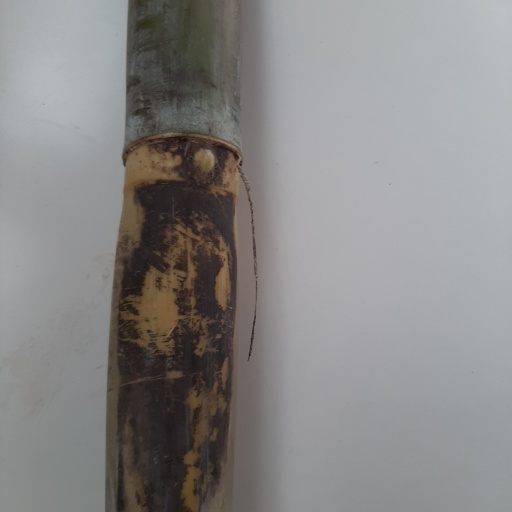Bud: (190, 147, 217, 183)
